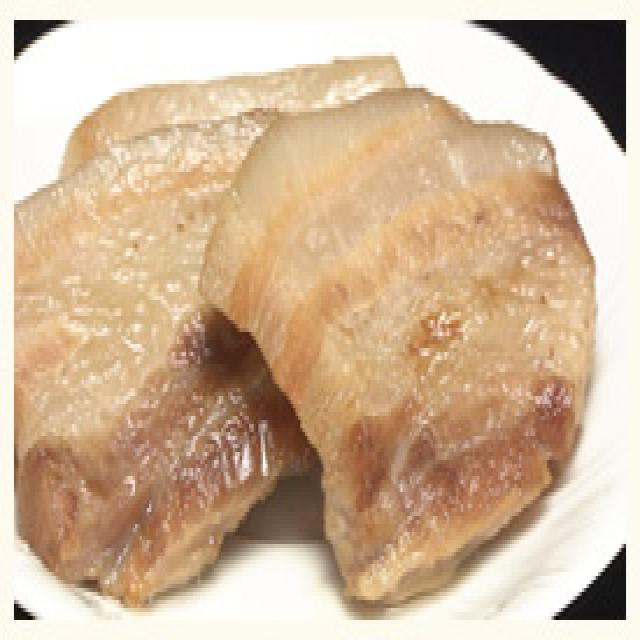猪肉菜式: (16, 36, 598, 592)
